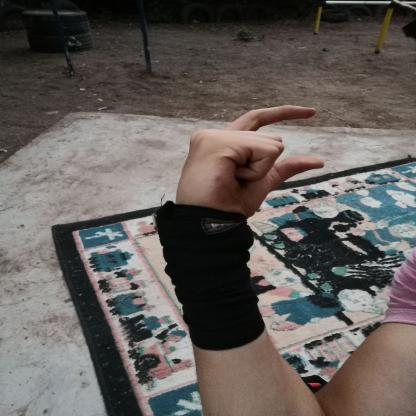DELL: (165, 94, 336, 230)
